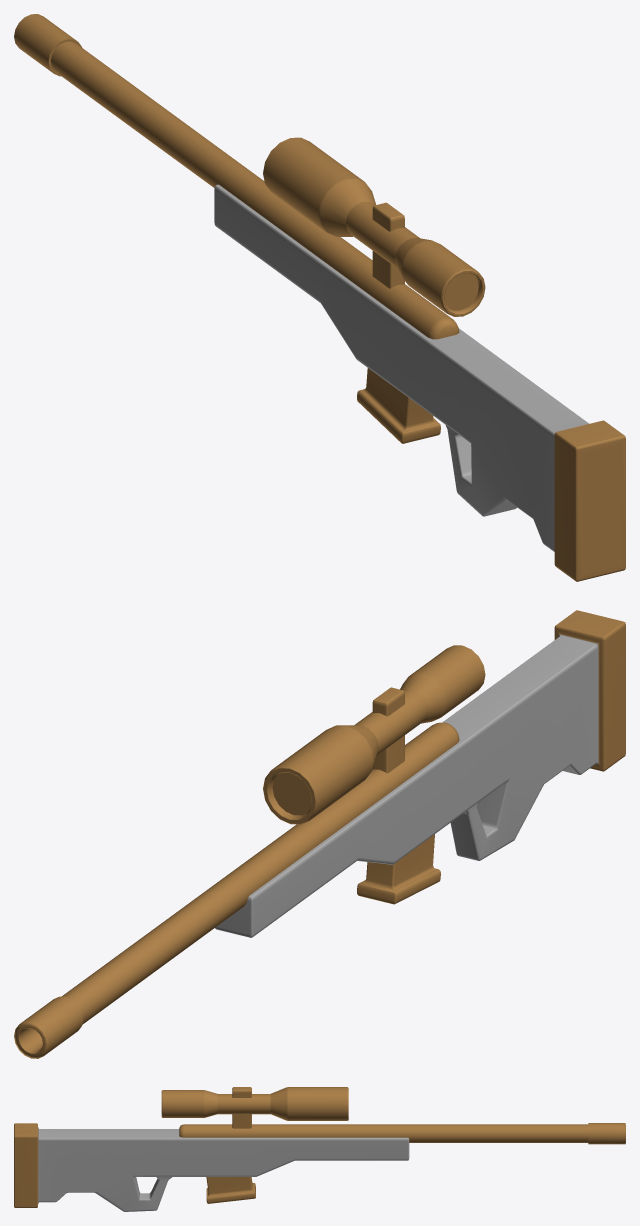
File: Snipe.fbx
The picture shows the model from 3 angles, top to bottom: view 1: azimuth 30°, elevation 25°; view 2: azimuth 150°, elevation 25°; view 3: azimuth 270°, elevation 25°; orthographic projection. The views are drawn at different scales.
Parts seen in each view (by area): view 1: Snipe; view 2: Snipe; view 3: Snipe.
Part boxes in pixels (x1,y1,x2,y2): Snipe: (14, 14, 625, 581); Snipe: (14, 610, 625, 1058); Snipe: (14, 1087, 625, 1211).
Bounding box in the file's own units: 65.13 × 252 × 1170.
